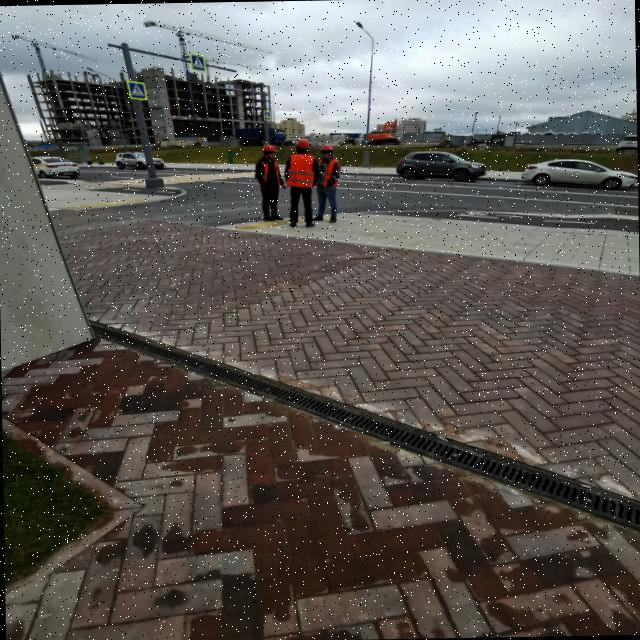Helmet: (263, 145, 279, 157), (296, 140, 311, 152), (320, 146, 334, 157)
Jacket: (291, 151, 316, 188), (258, 156, 284, 188), (319, 156, 341, 188)
